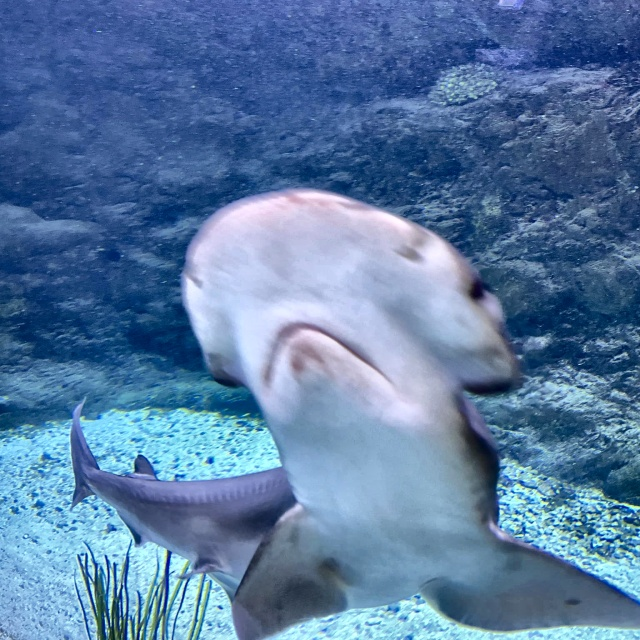shark: (68, 188, 639, 639)
